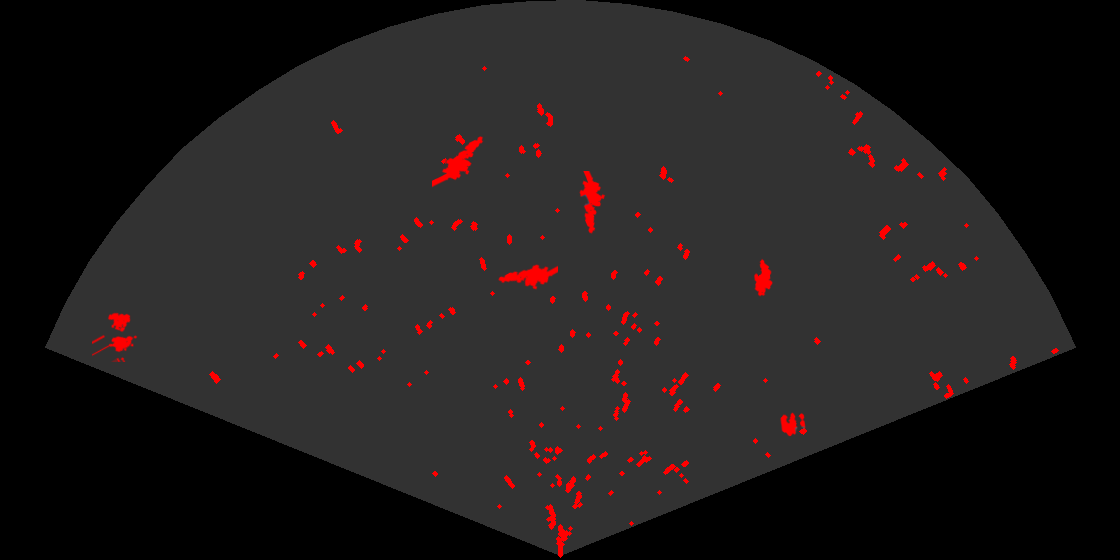AUV: (753, 257, 774, 298)
ball: (779, 411, 807, 438)
cage: (92, 311, 139, 362)
frogman: (432, 135, 485, 188), (578, 171, 607, 235), (497, 263, 558, 291)
